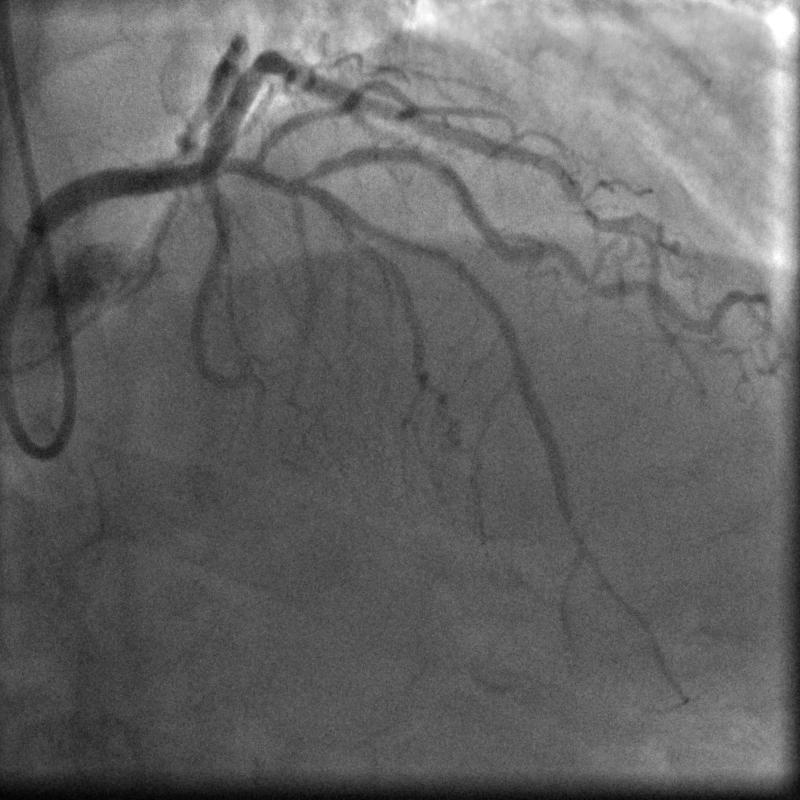Stenosis: (398, 139, 448, 181)
